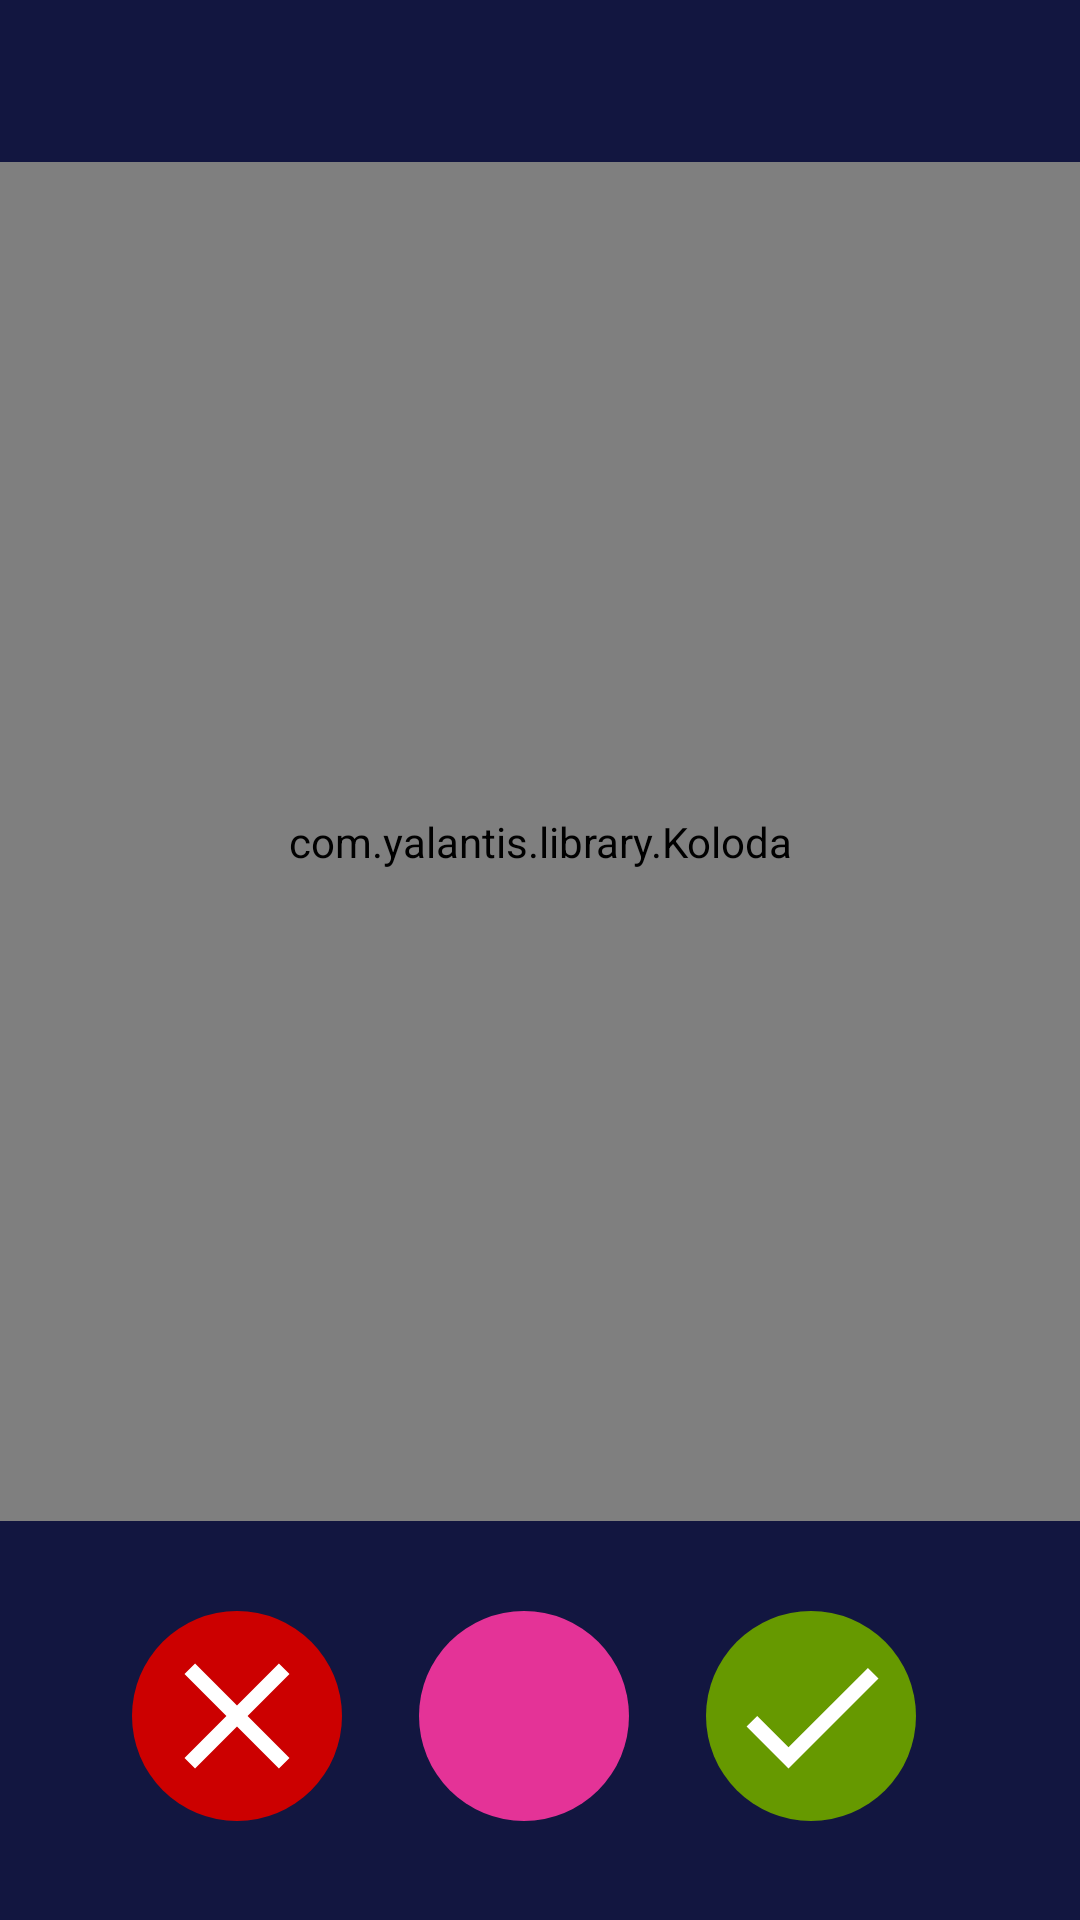

Screen size 1080w x 1920h. Icon name, then its center in pixels as [x,y]:
check: [811,1716]
clear: [237,1716]
